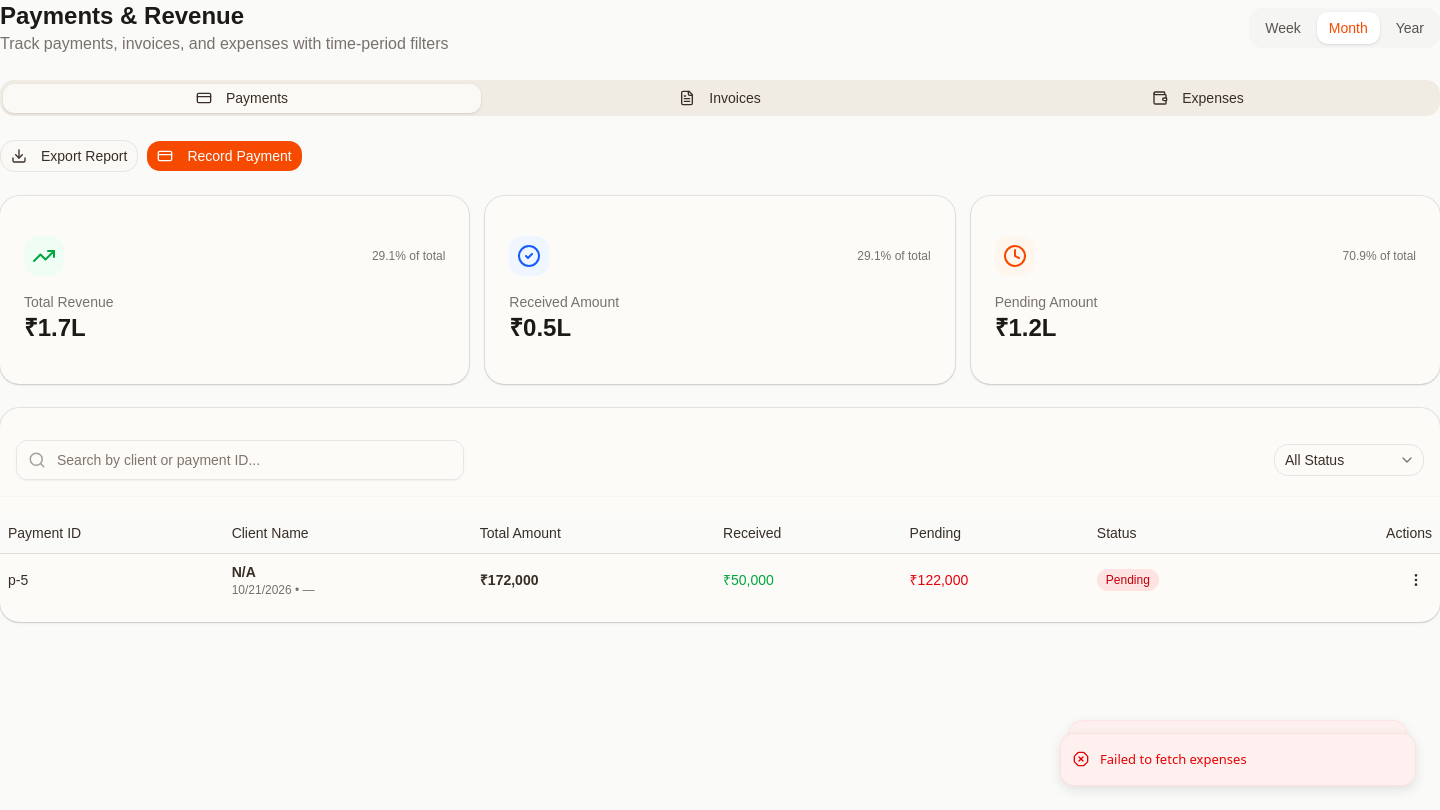
3 — Payment delete gate and canonical status writes › 3.5 — a 409 on delete falls back to the disabled state instead of retrying
This screenshot has width=1440, height=810.
Step 1. Click the 6th button → (1416, 580), box [1400, 564, 1432, 596]
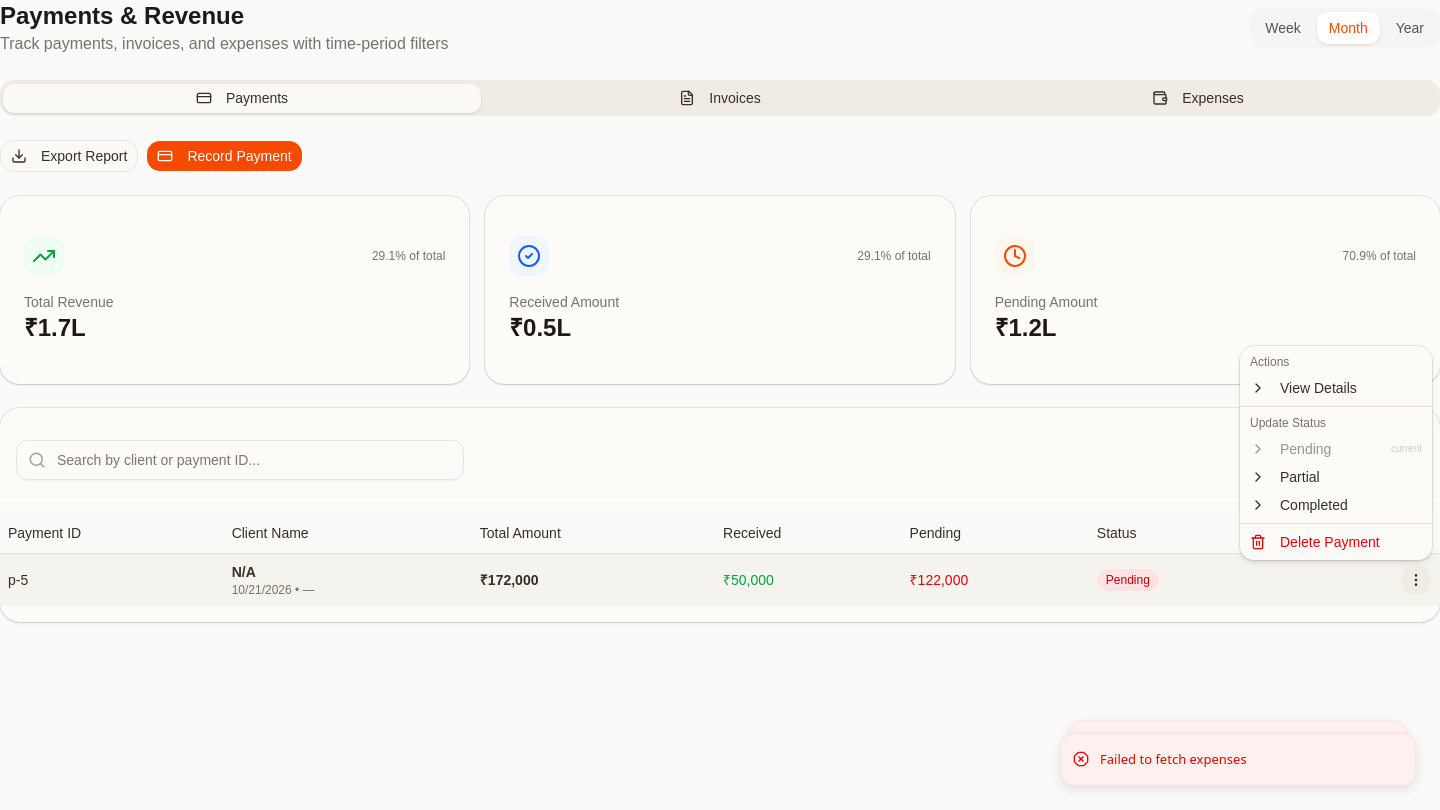
Step 2. Click the menu item "Delete Payment" → (1315, 542), box [1250, 534, 1380, 550]
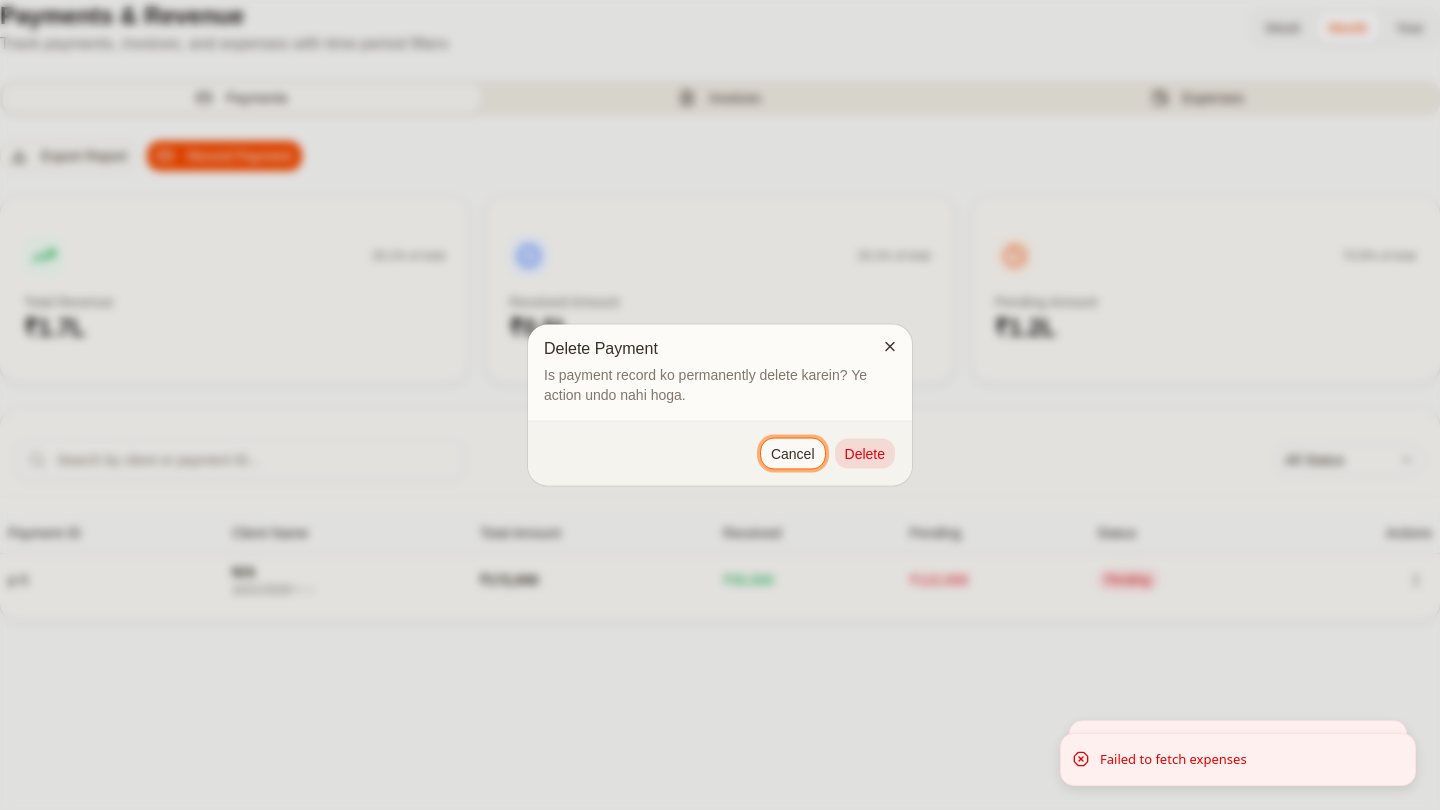
Step 3. Click the button "Delete" → (865, 454), box [834, 438, 896, 470]
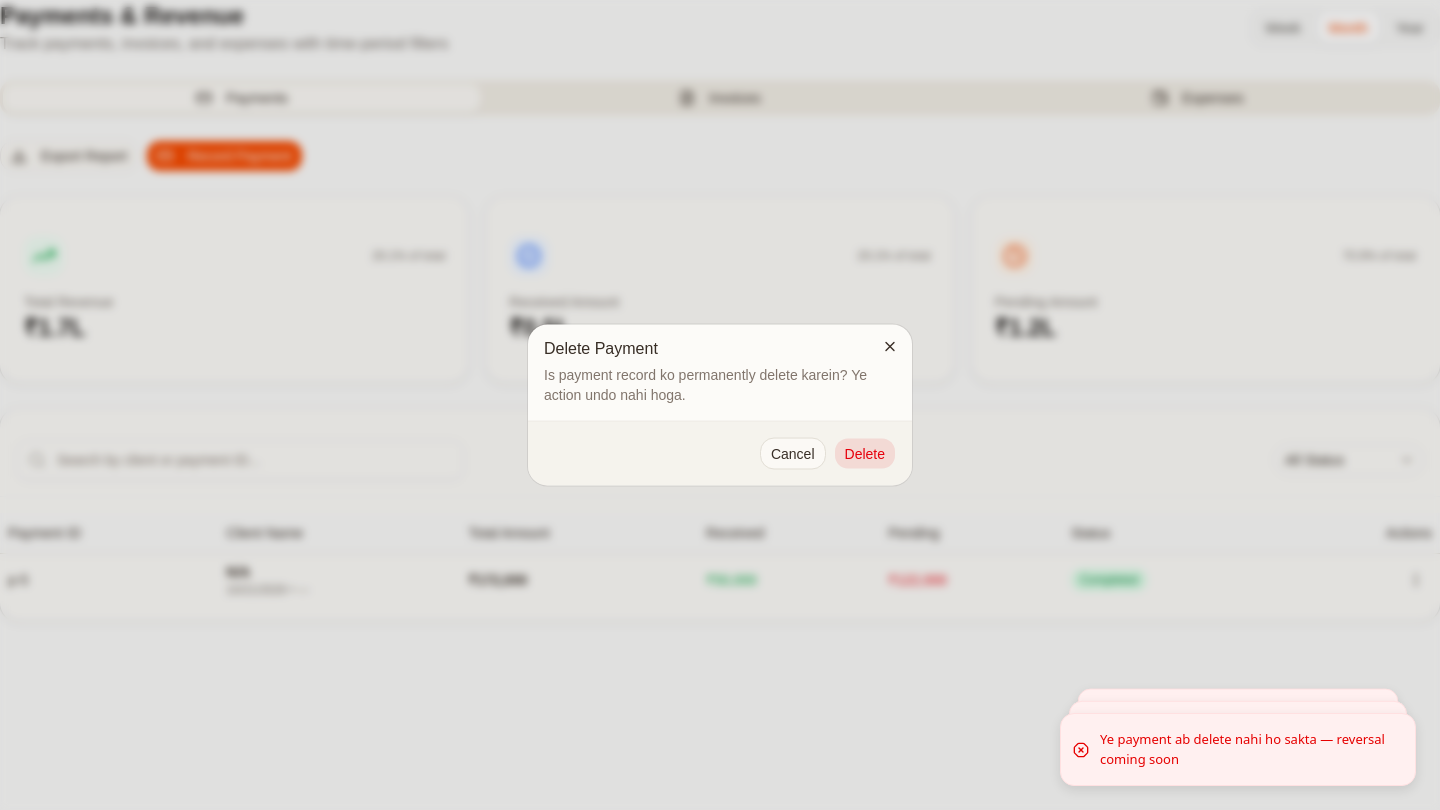
Step 4. Click the button "Cancel" → (793, 454), box [760, 438, 826, 470]
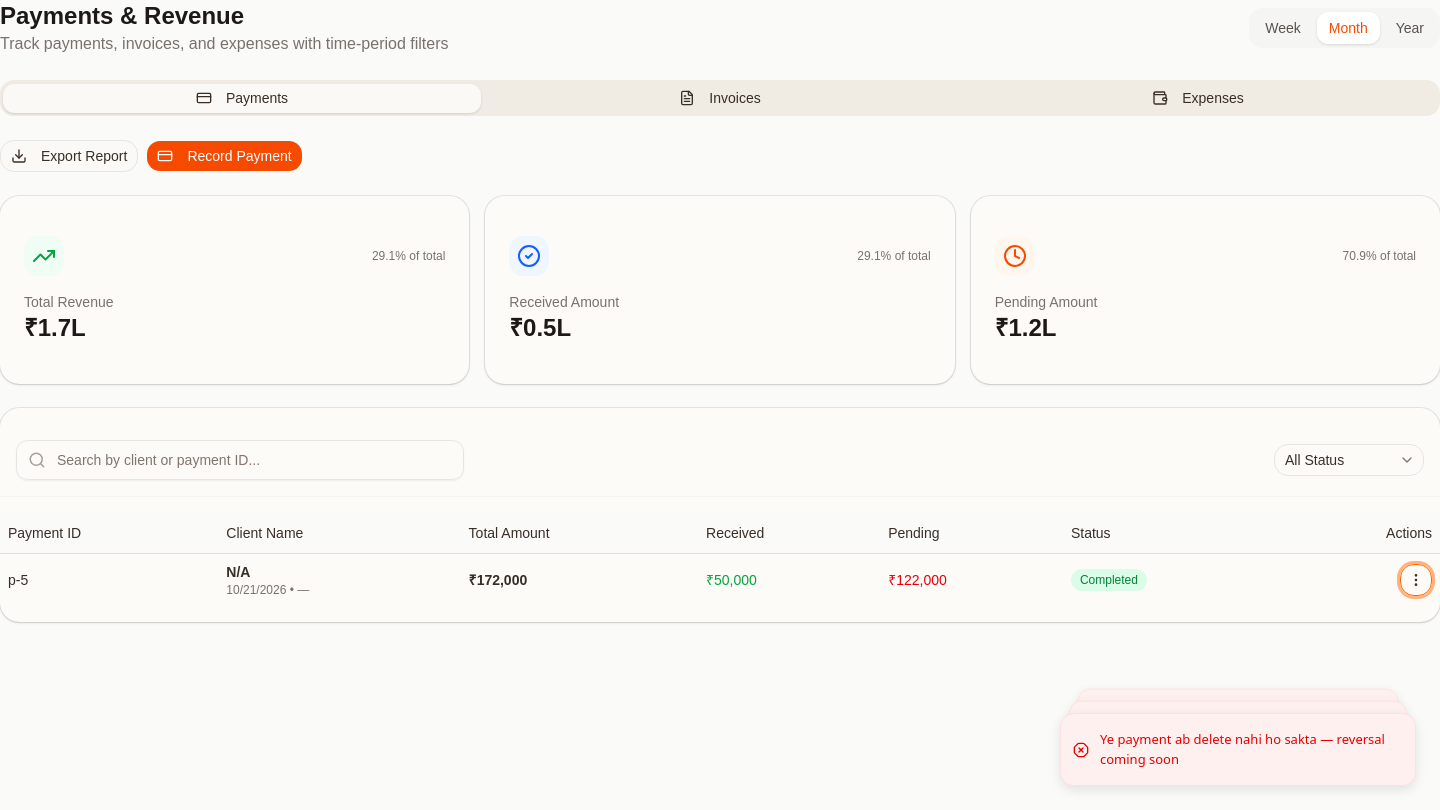
Expected: the dialog is gone
Step 5. Click the 6th button → (1416, 580), box [1400, 564, 1432, 596]
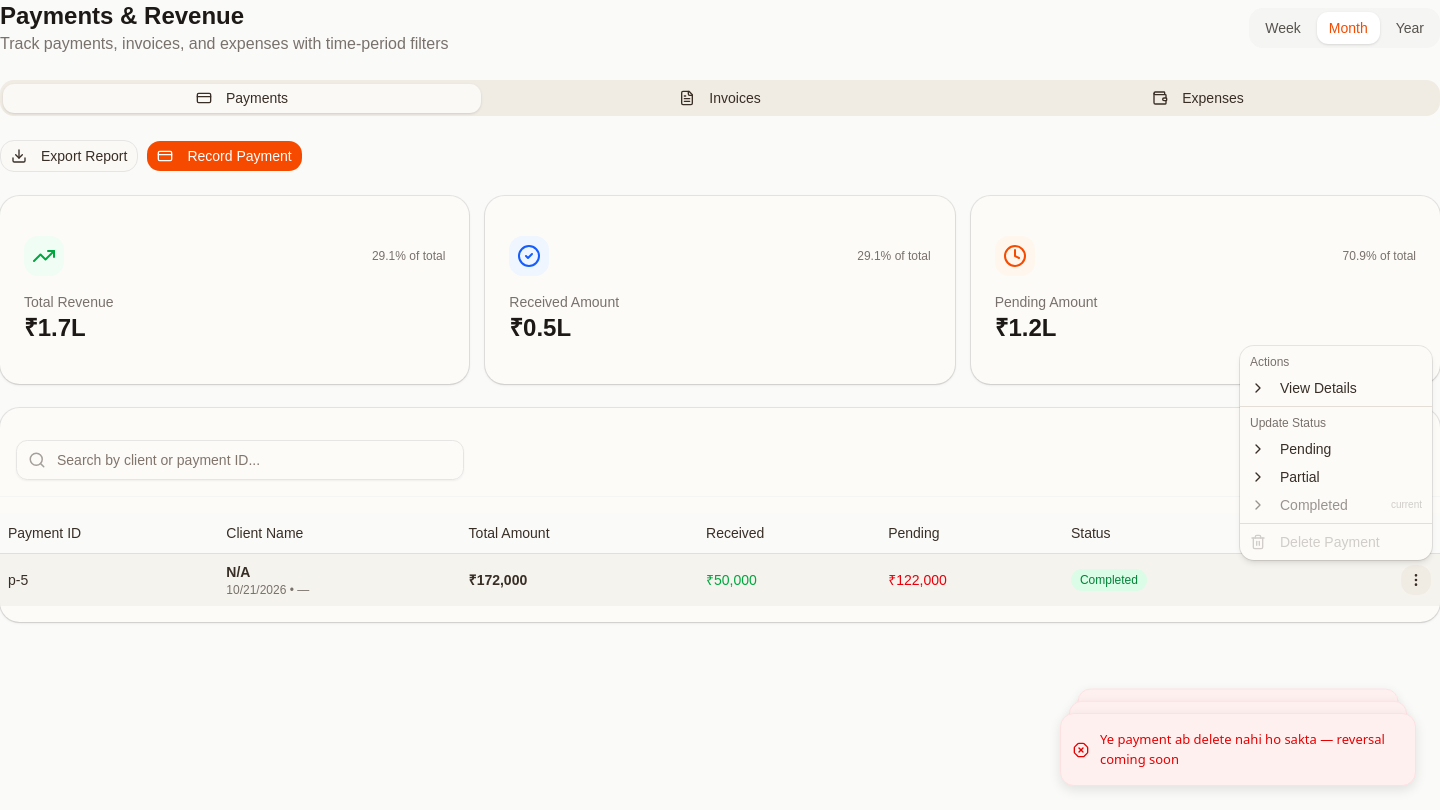
Expected: the menu item "Delete Payment" is shown, [1250, 534, 1380, 550]
